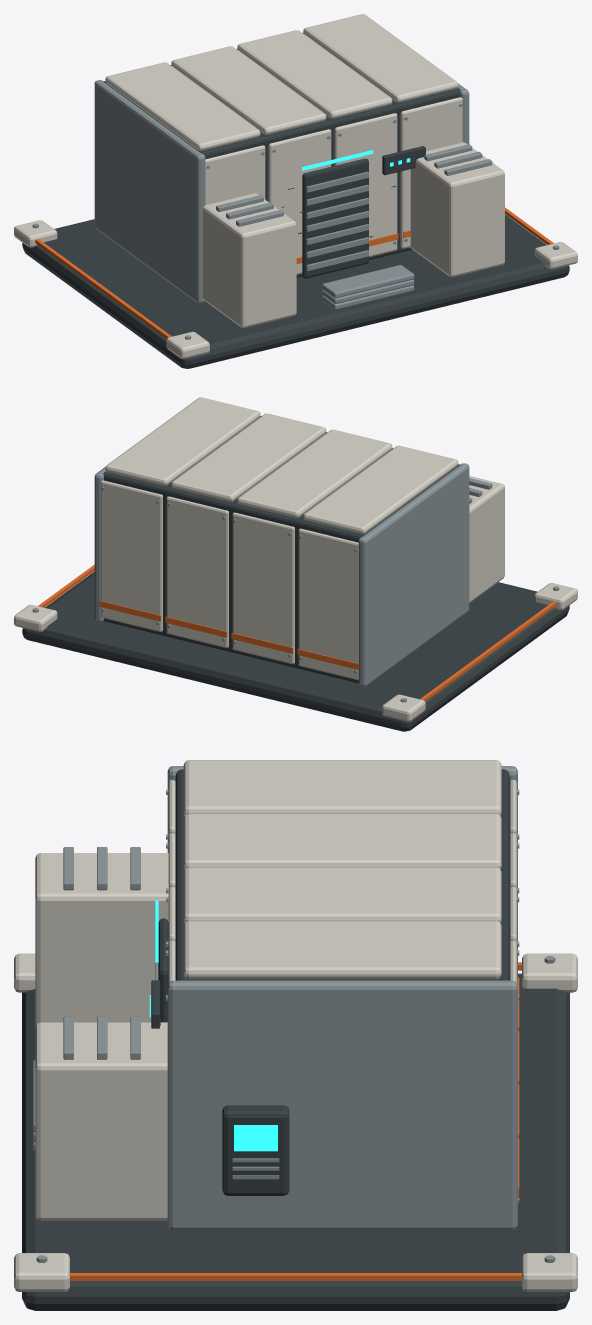
Rendered from SM_DronePartsWorkshop_Body.fbx.
The picture shows the model from 3 angles, top to bottom: view 1: azimuth 30°, elevation 25°; view 2: azimuth 150°, elevation 25°; view 3: azimuth 270°, elevation 25°; orthographic projection. The views are drawn at different scales.
Visible parts, largest first — view 1: SM_DronePartsWorkshop_Body; view 2: SM_DronePartsWorkshop_Body; view 3: SM_DronePartsWorkshop_Body.
Boxes of the visible parts, x1=… form: SM_DronePartsWorkshop_Body: x1=14, y1=14, x2=577, y2=368; SM_DronePartsWorkshop_Body: x1=14, y1=397, x2=577, y2=731; SM_DronePartsWorkshop_Body: x1=14, y1=760, x2=577, y2=1310.
Size of the model in its own units: 572 by 422 by 243.
